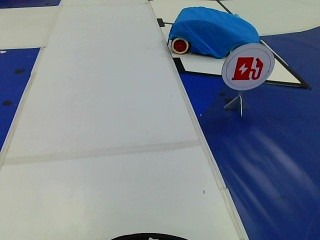battery: (224, 48, 268, 86)
car: (164, 7, 259, 60)
